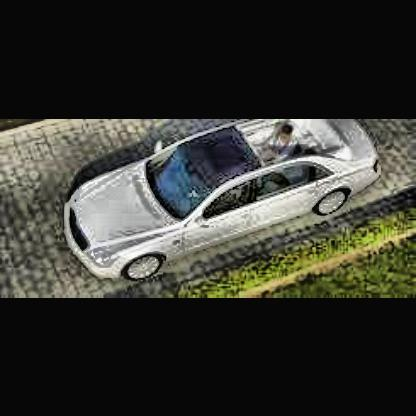Maybach Landaulet Convertible 2012: (65, 124, 389, 280)
